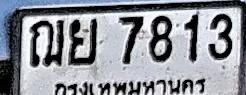1: (184, 14, 198, 62)
3: (208, 13, 232, 59)
7: (119, 16, 143, 64)
8: (149, 15, 172, 62)
A12: (30, 19, 64, 67)
A34: (68, 19, 97, 64)
BKK: (52, 77, 210, 95)
